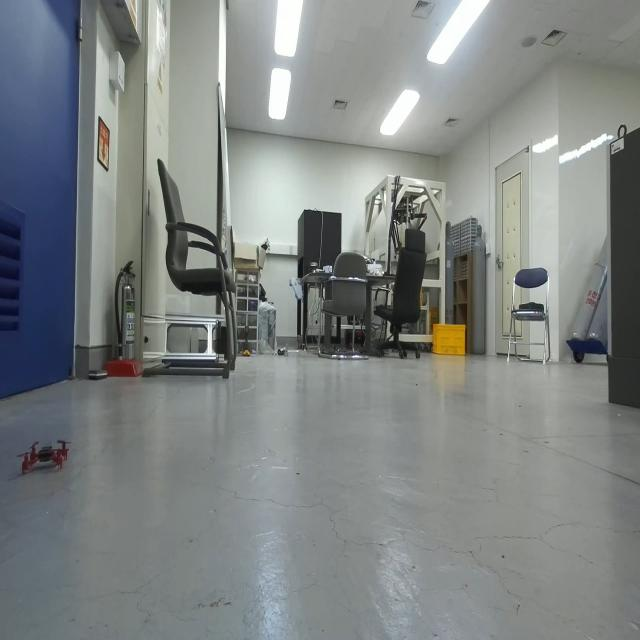crazyflie: (18, 434, 73, 476)
